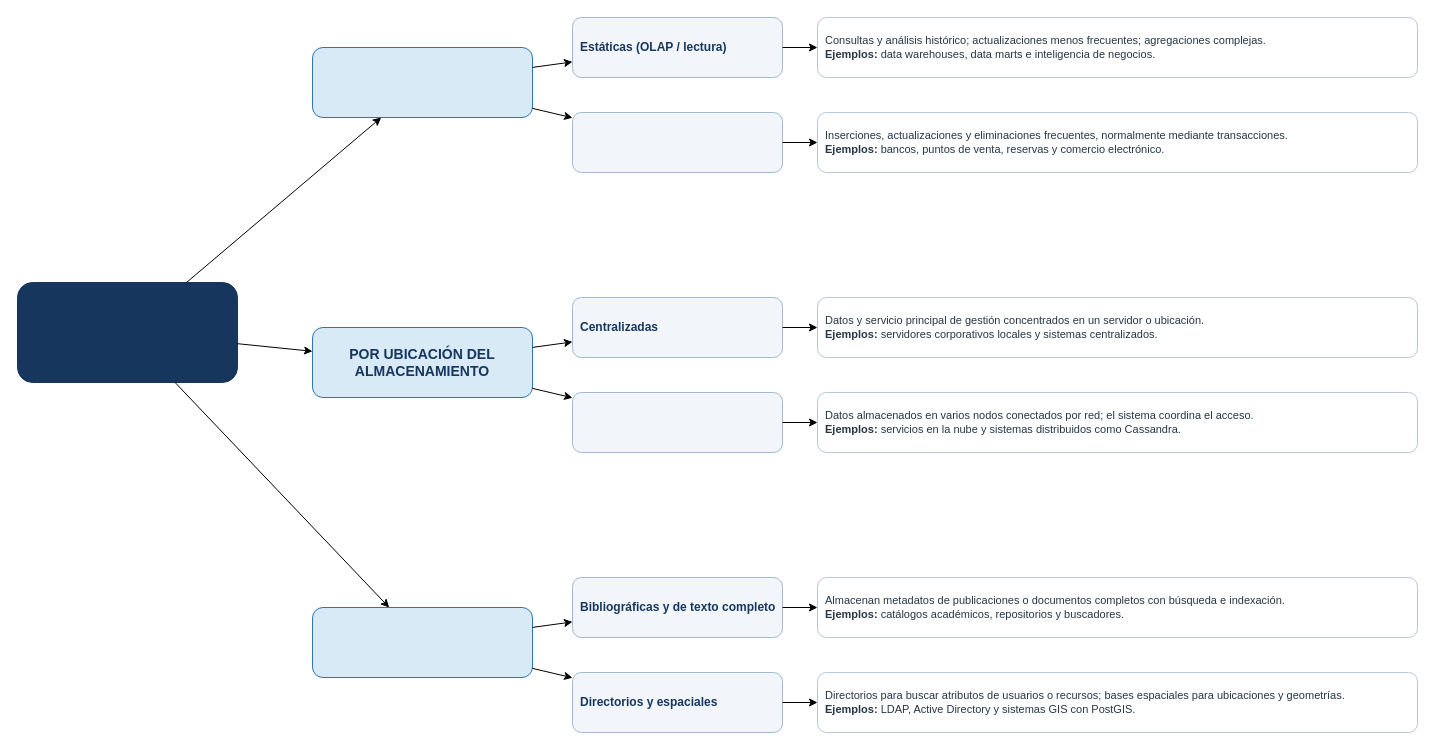
Image size: 1435x750. Some labels were removed from this diagram. Each missing label, with the box of its shape:
CLASIFICACIÓN DE LAS BASES DE DATOS: (16, 282, 238, 382)
Dinámicas (OLTP / lectura y escritura): (572, 112, 782, 172)
Distribuidas: (572, 392, 782, 452)
POR CONTENIDO O NATURALEZA: (312, 606, 532, 678)
POR VARIABILIDAD DE LOS DATOS: (312, 46, 532, 118)
